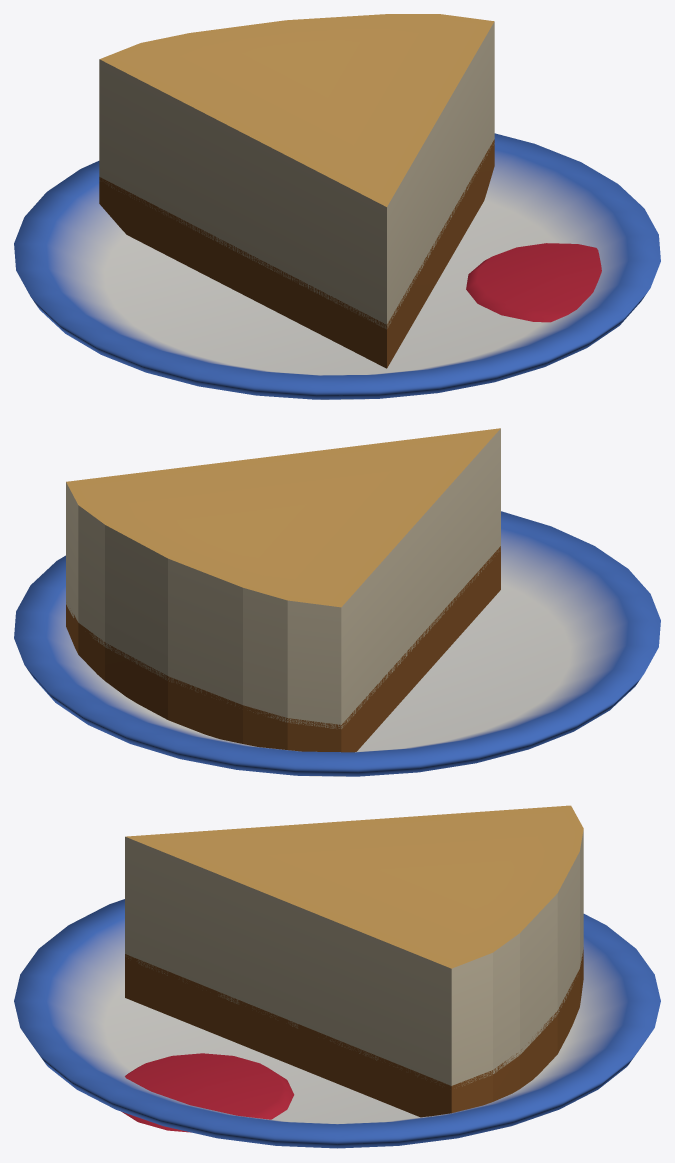
Rendered from item_dish_cheesecake.glb.
3 views of the same model, one above another, from view 1: azimuth 30°, elevation 25°; view 2: azimuth 150°, elevation 25°; view 3: azimuth 270°, elevation 25° (orthographic).
Parts seen in each view (by area): view 1: item_dish_cheesecake_main; view 2: item_dish_cheesecake_main; view 3: item_dish_cheesecake_main.
Part boxes in pixels (x1=…): item_dish_cheesecake_main: x1=14, y1=14, x2=660, y2=399; item_dish_cheesecake_main: x1=14, y1=428, x2=660, y2=776; item_dish_cheesecake_main: x1=14, y1=805, x2=660, y2=1148.
Size of the model in its own units: 0.24 by 0.076 by 0.24.
